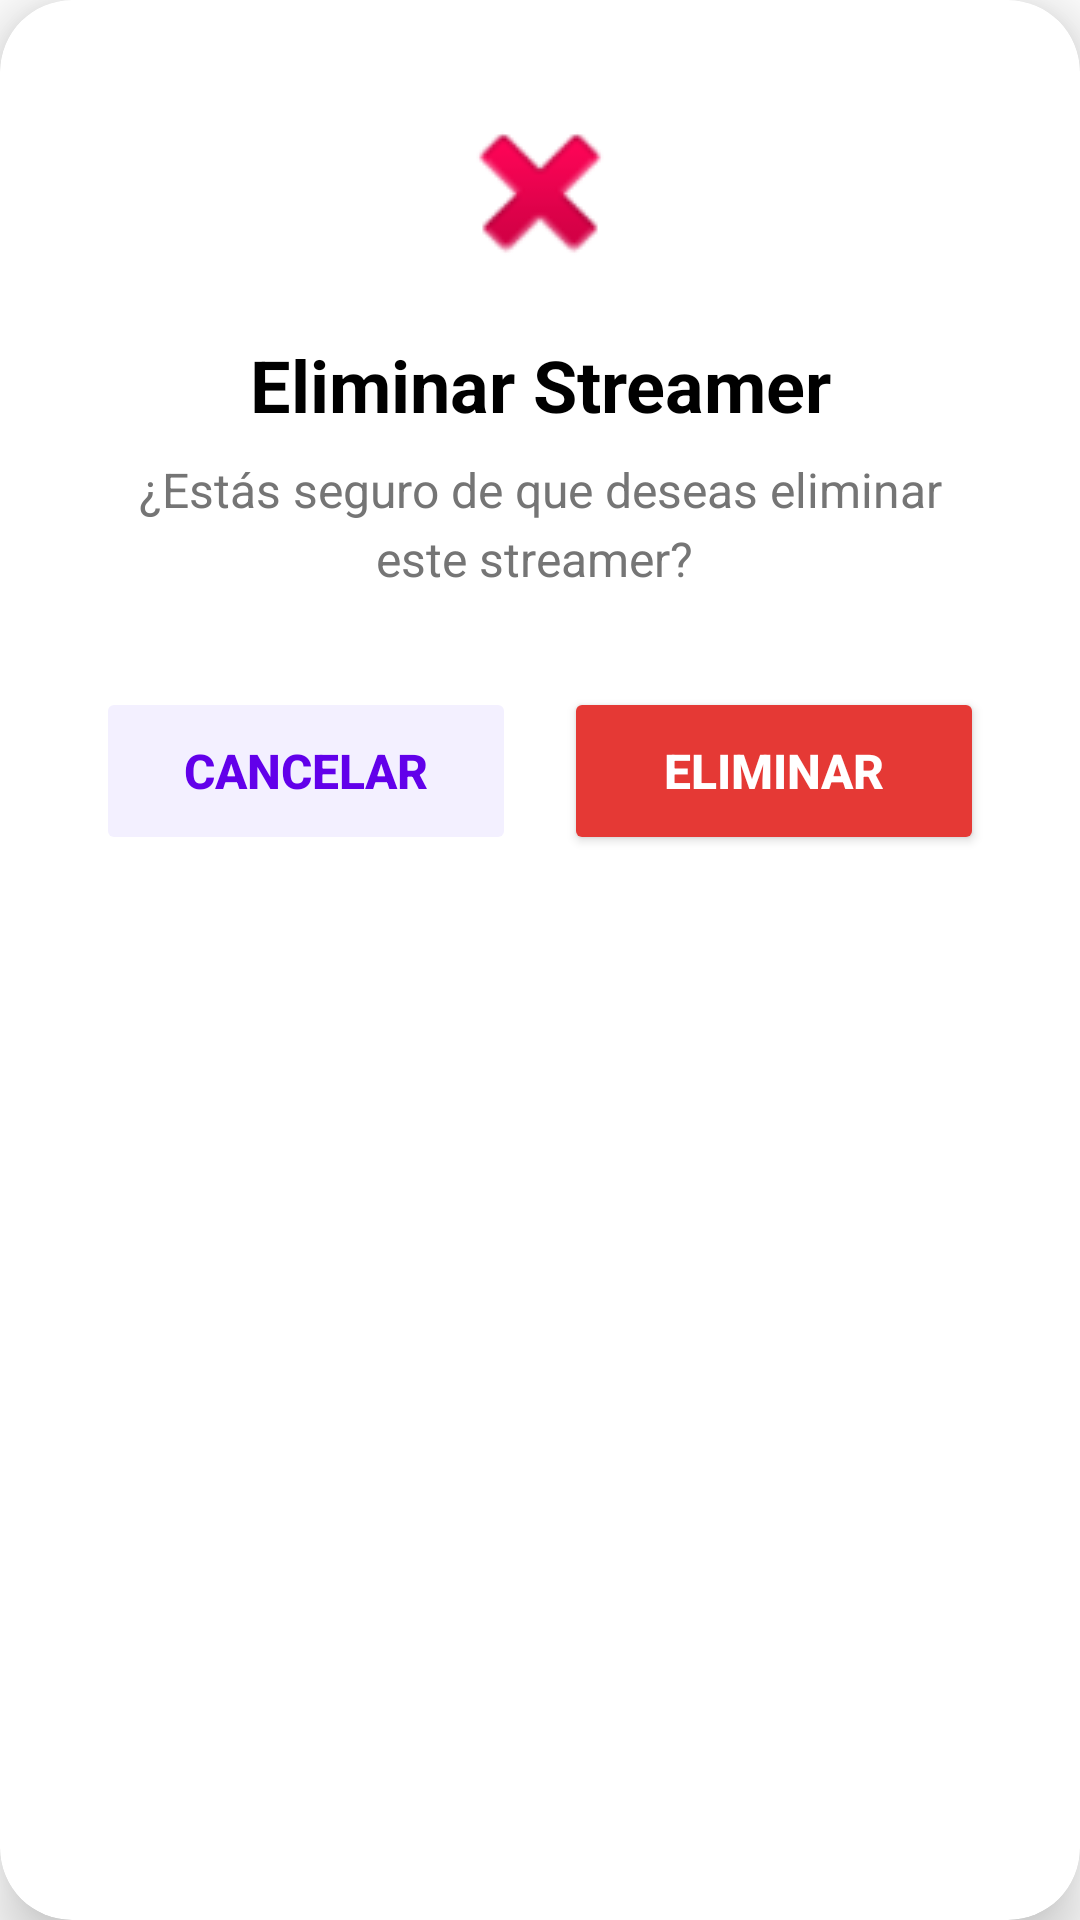

Point at icon controls on the screen. Image size 1080 × 1920, points as (x,y).
delete: (540,193)
